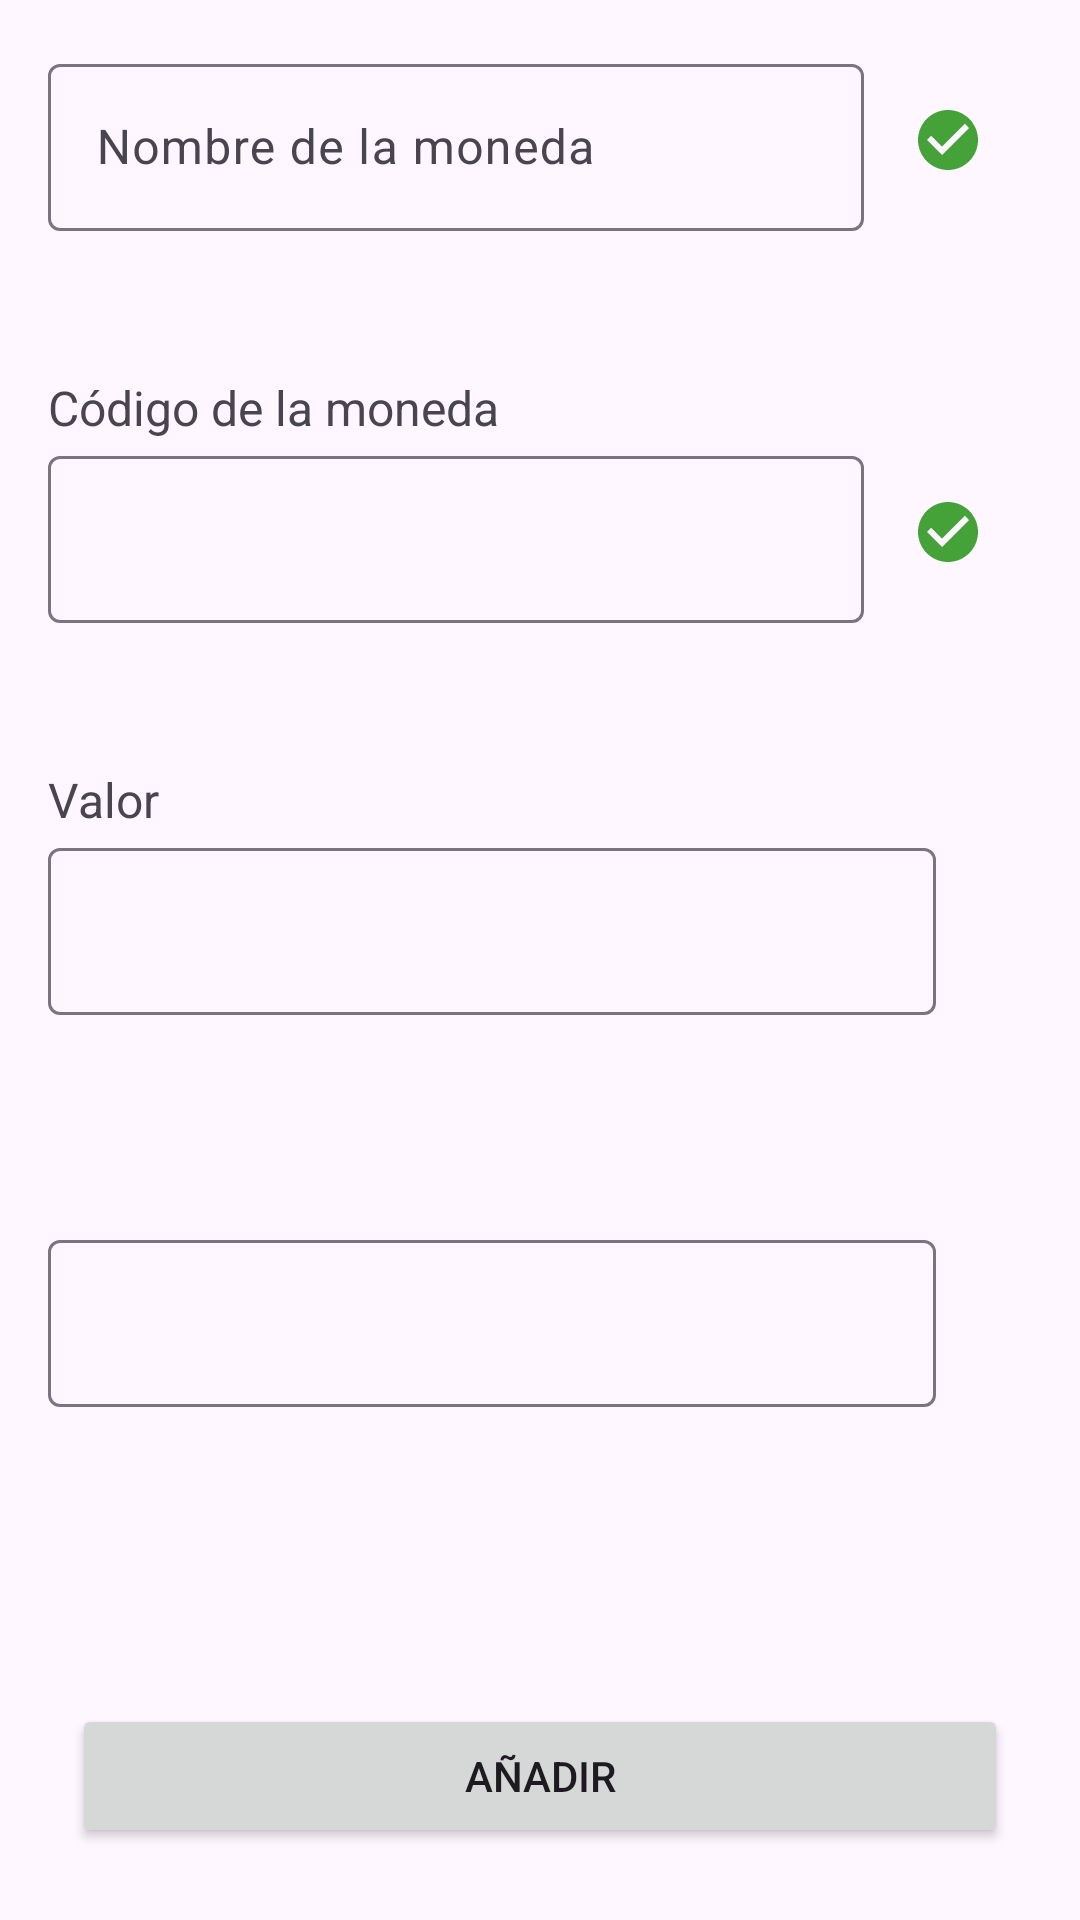

Icon bounding boxes for this 1080 x 1920 phone screenshot, format (x1, y1, x2, y2):
check circle: (918, 110, 978, 170), (918, 502, 978, 562)
